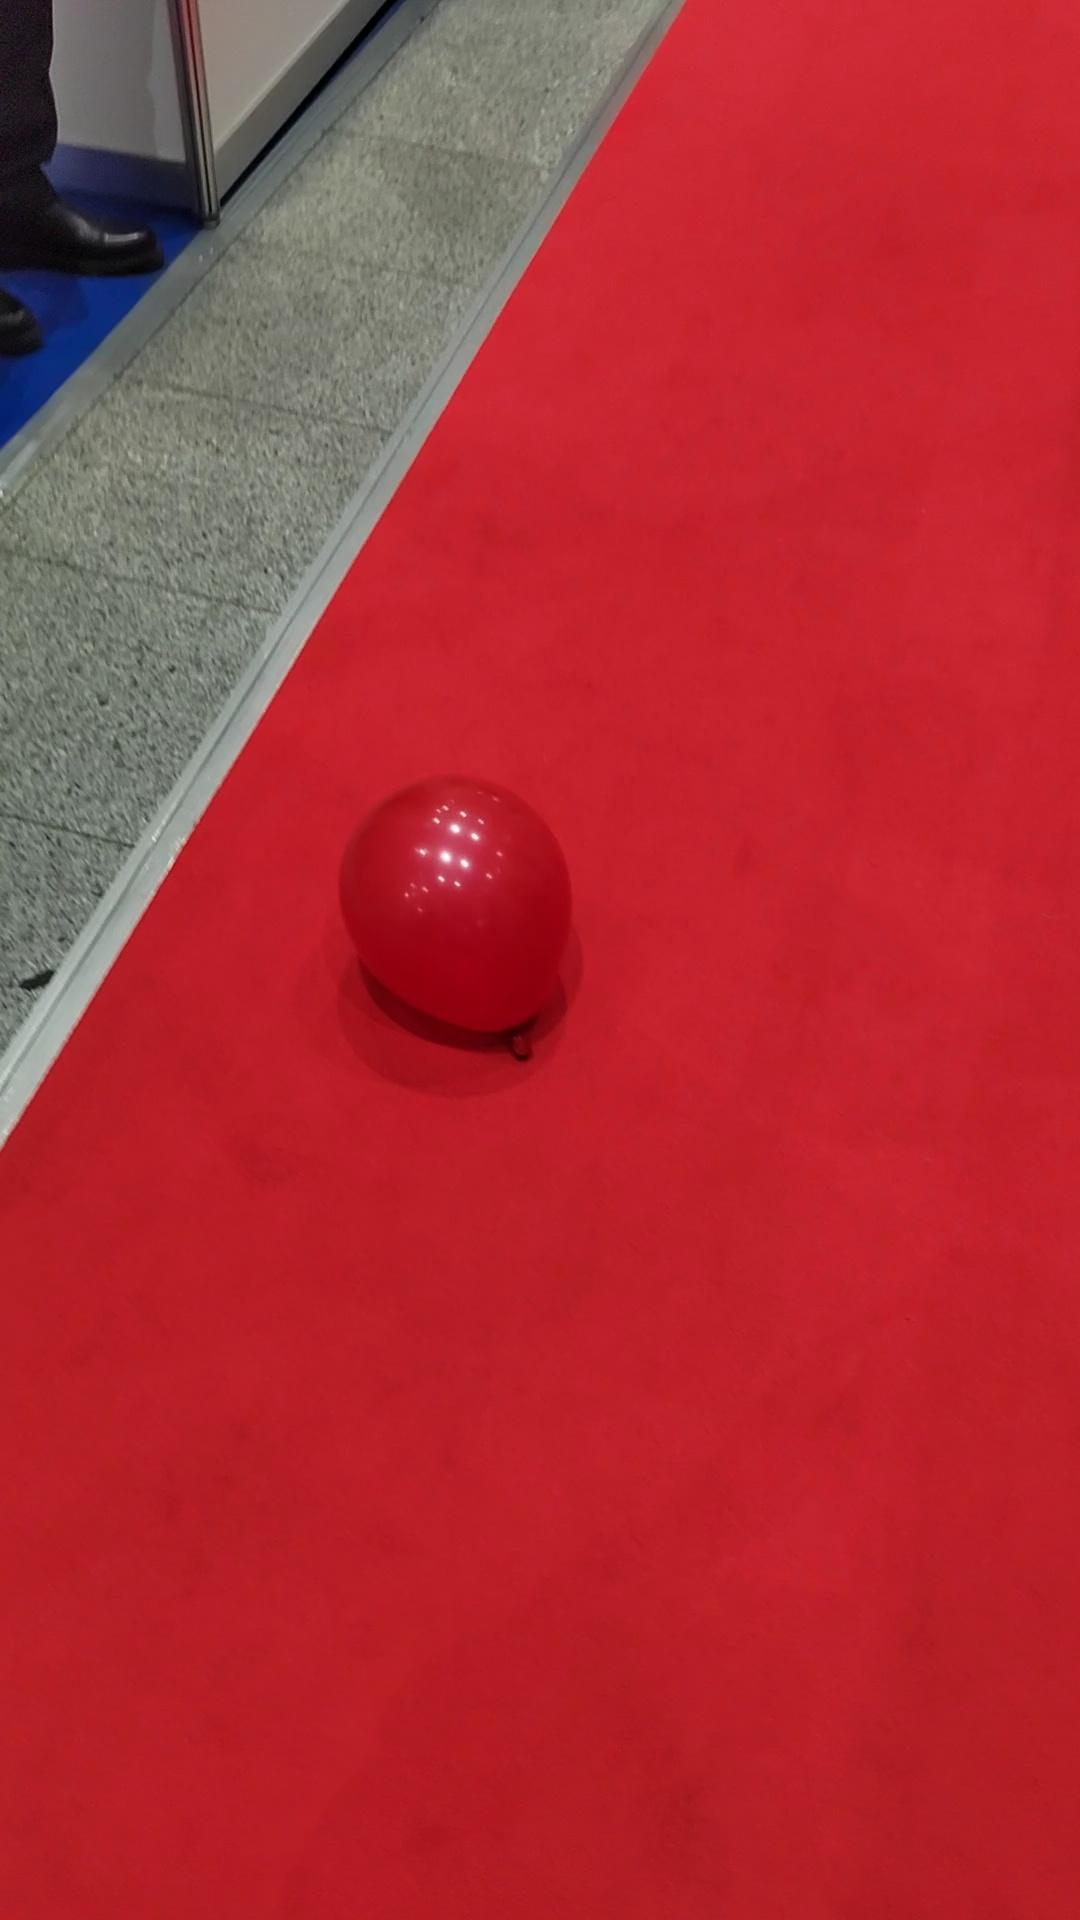red: (339, 777, 574, 1039)
